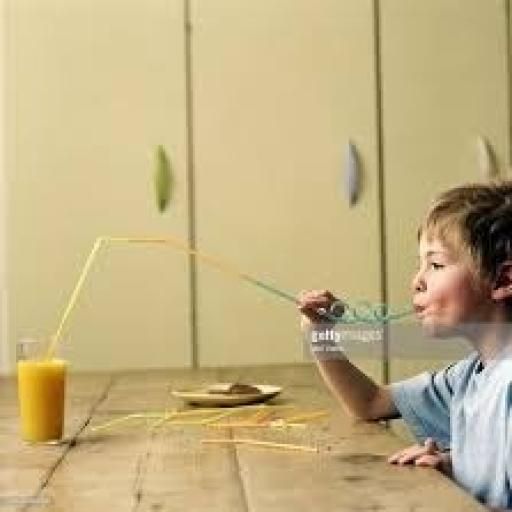drinking: (128, 66, 512, 413)
